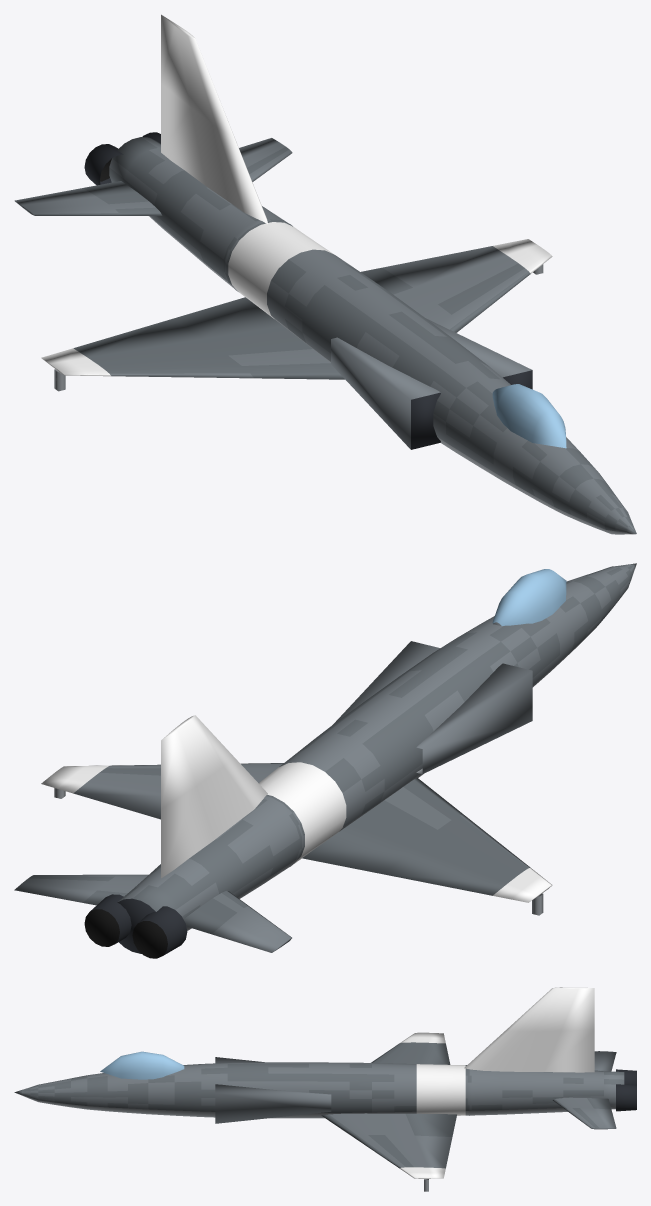
3 views of the same model, one above another, from view 1: azimuth 30°, elevation 25°; view 2: azimuth 150°, elevation 25°; view 3: azimuth 270°, elevation 25° (orthographic). The views are drawn at different scales.
Visible parts, largest first — view 1: body; view 2: body; view 3: body.
Boxes of the visible parts, x1,y1,x2,y2 form: body: (14, 14, 636, 534); body: (14, 563, 636, 958); body: (14, 987, 636, 1191).
Bounding box in the file's own units: 8.13 × 3.43 × 14.75.
